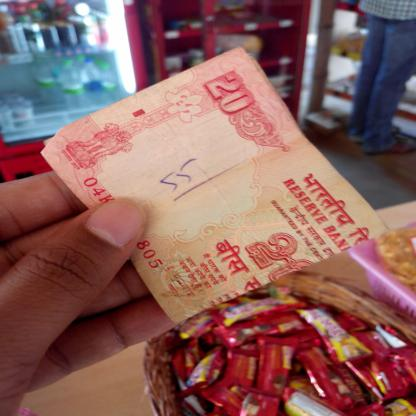Old20Front: (53, 50, 368, 317)
